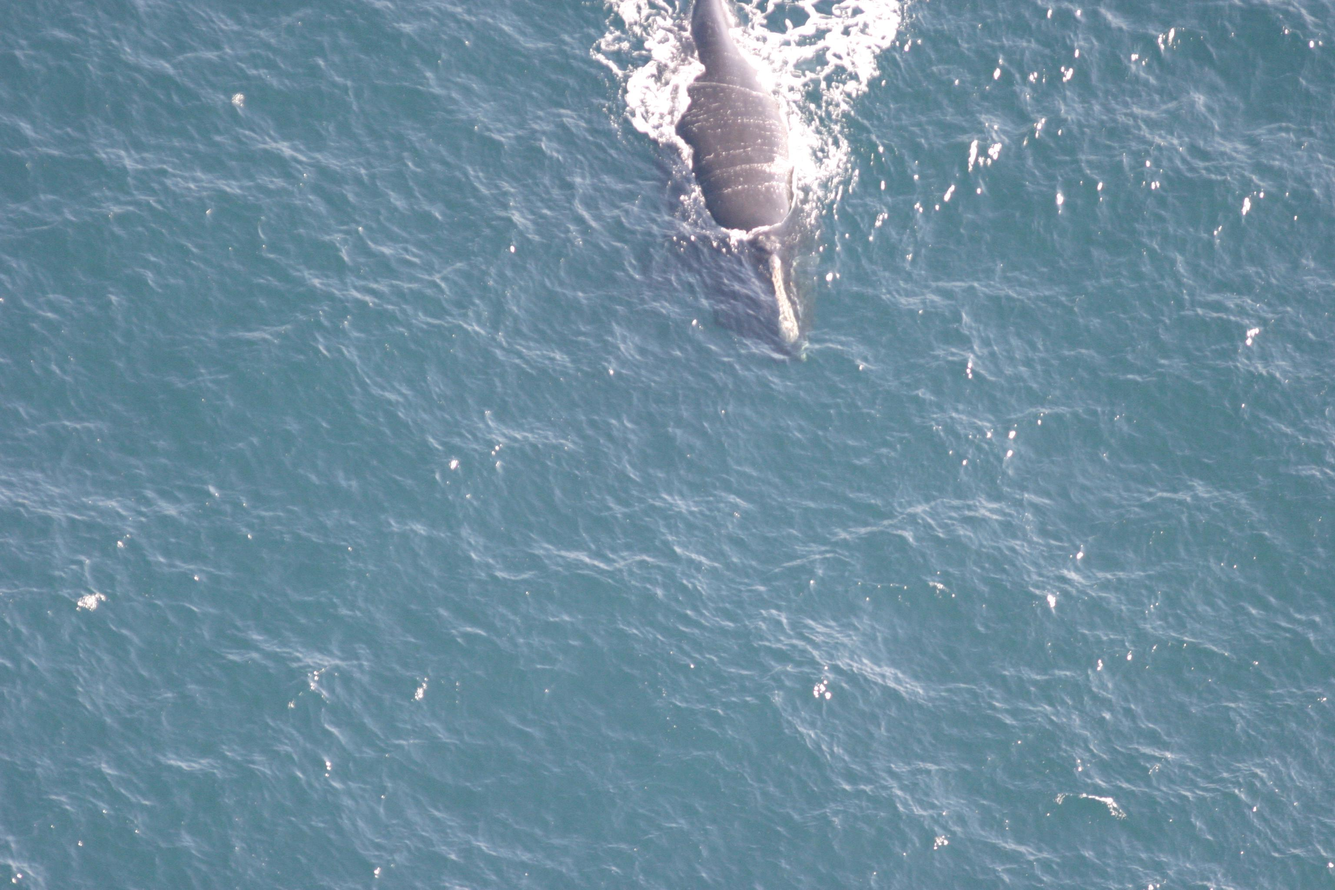whale: (655, 0, 841, 368)
